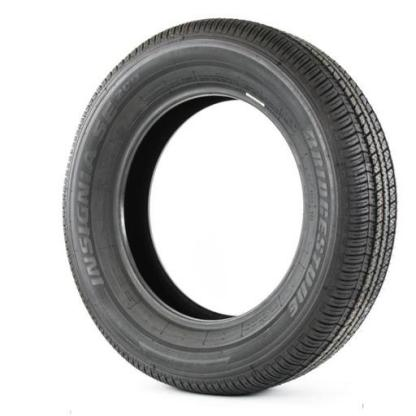Tire: (61, 17, 400, 400)
